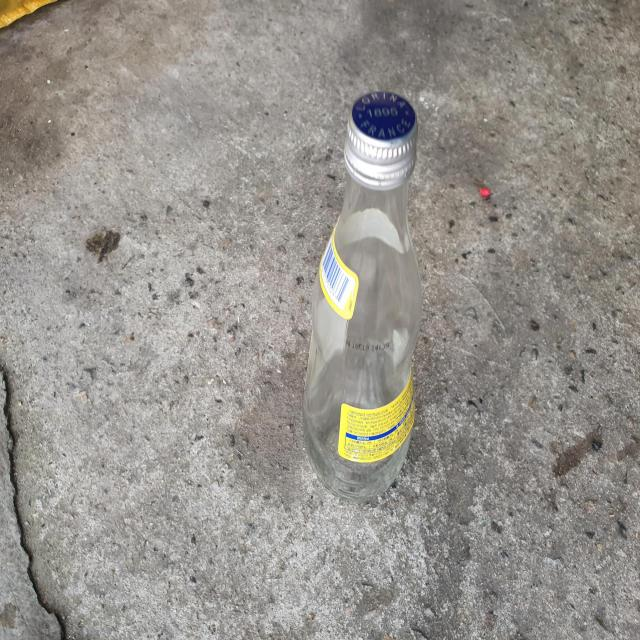glass: (303, 91, 423, 502)
